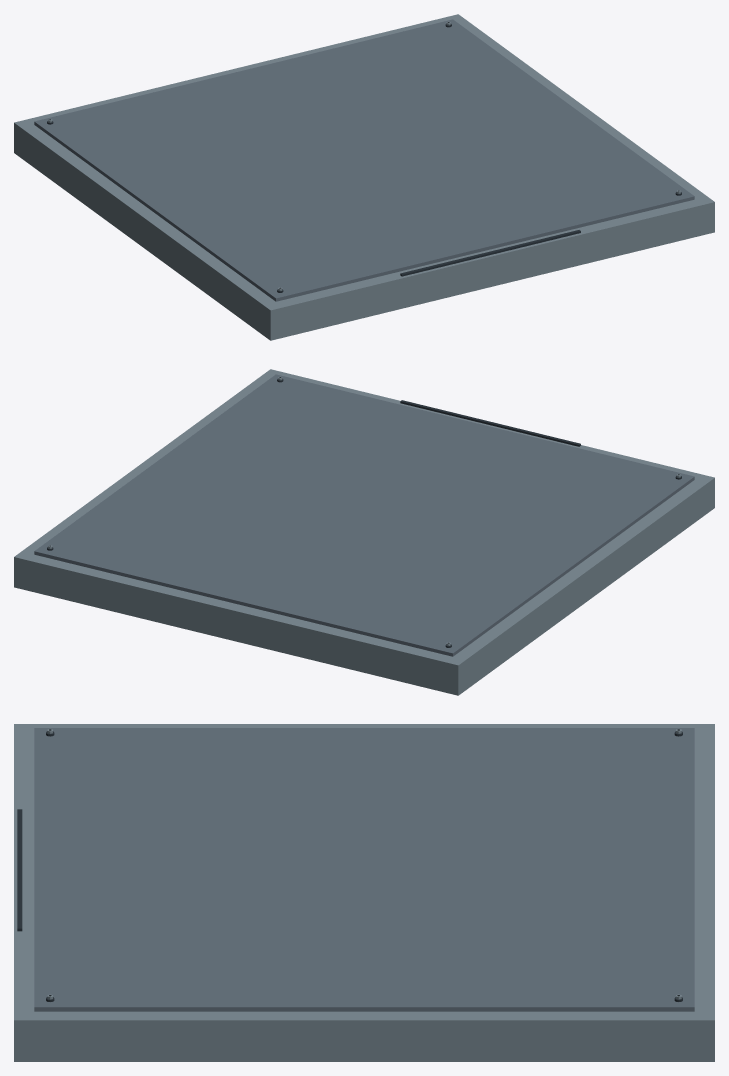
File: SM_Lab_FloorTile.fbx
3 renders of one model, top to bottom at view 1: azimuth 30°, elevation 25°; view 2: azimuth 150°, elevation 25°; view 3: azimuth 270°, elevation 25°, orthographic. The views are drawn at different scales.
Visible parts, largest first — view 1: SM_Lab_FloorTile; view 2: SM_Lab_FloorTile; view 3: SM_Lab_FloorTile.
Boxes of the visible parts, box(x1,y1,x2,y2) form: SM_Lab_FloorTile: box(14, 14, 714, 340); SM_Lab_FloorTile: box(14, 369, 714, 695); SM_Lab_FloorTile: box(14, 724, 714, 1061).
Size of the model in its own units: 199 by 199 by 15.95.
